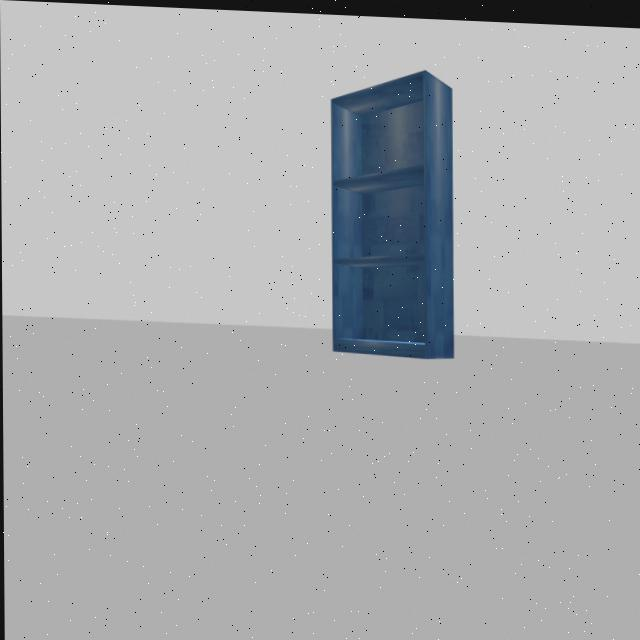shelf: (312, 54, 461, 372)
